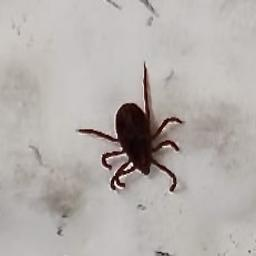Rhipicephalus sanguineus: (75, 60, 185, 193)
